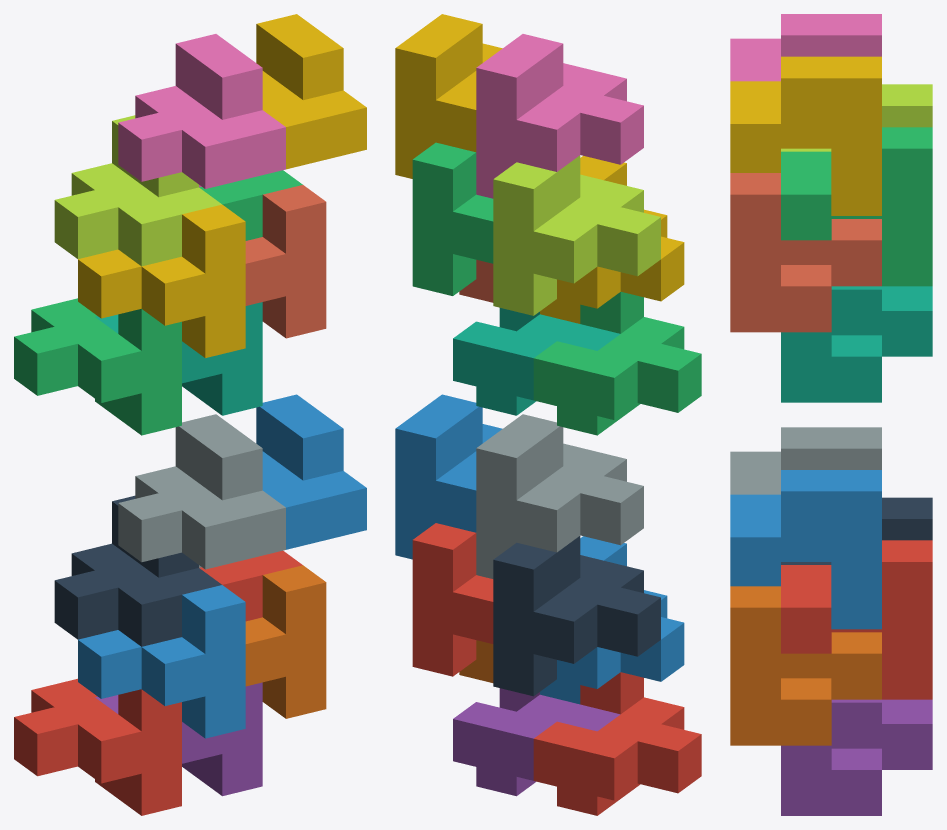
Rendered from tiling.obj.
3 renders of one model, left to right at view 1: azimuth 30°, elevation 25°; view 2: azimuth 150°, elevation 25°; view 3: azimuth 270°, elevation 25°, orthographic. The views are drawn at different scales.
Parts seen in each view (by area): view 1: copy_2_domain_4, copy_2_domain_2, copy_1_domain_3, copy_1_domain_1, copy_1_domain_4, copy_1_domain_2, copy_2_domain_8, copy_2_domain_6, copy_2_domain_1, copy_2_domain_3, copy_1_domain_6, copy_1_domain_8 (+4 smaller); view 2: copy_2_domain_3, copy_2_domain_1, copy_2_domain_4, copy_2_domain_2, copy_1_domain_3, copy_1_domain_1, copy_2_domain_8, copy_2_domain_6, copy_2_domain_5, copy_2_domain_7, copy_1_domain_7, copy_1_domain_5 (+4 smaller); view 3: copy_2_domain_6, copy_2_domain_8, copy_1_domain_6, copy_1_domain_8, copy_1_domain_7, copy_1_domain_5, copy_2_domain_5, copy_2_domain_7, copy_2_domain_2, copy_2_domain_4, copy_2_domain_3, copy_2_domain_1.
Part boxes in pixels (left/top/right/bottom): copy_2_domain_4: left=118, top=34, right=285, bottom=188; copy_2_domain_2: left=118, top=414, right=285, bottom=569; copy_1_domain_3: left=14, top=298, right=181, bottom=435; copy_1_domain_1: left=14, top=678, right=181, bottom=815; copy_1_domain_4: left=78, top=204, right=245, bottom=357; copy_1_domain_2: left=78, top=585, right=245, bottom=738; copy_2_domain_8: left=256, top=14, right=366, bottom=169; copy_2_domain_6: left=256, top=394, right=366, bottom=549; copy_2_domain_1: left=54, top=495, right=221, bottom=646; copy_2_domain_3: left=54, top=115, right=221, bottom=266; copy_1_domain_6: left=245, top=565, right=326, bottom=718; copy_1_domain_8: left=245, top=185, right=326, bottom=338; copy_2_domain_3: left=493, top=155, right=660, bottom=315; copy_2_domain_1: left=493, top=536, right=660, bottom=696; copy_2_domain_4: left=476, top=34, right=643, bottom=198; copy_2_domain_2: left=476, top=414, right=643, bottom=578; copy_1_domain_3: left=533, top=292, right=701, bottom=435; copy_1_domain_1: left=533, top=672, right=701, bottom=815; copy_2_domain_8: left=395, top=14, right=502, bottom=178; copy_2_domain_6: left=395, top=394, right=502, bottom=559; copy_2_domain_5: left=412, top=523, right=493, bottom=676; copy_2_domain_7: left=412, top=142, right=493, bottom=295; copy_1_domain_7: left=453, top=308, right=619, bottom=415; copy_1_domain_5: left=453, top=688, right=620, bottom=796; copy_2_domain_6: left=730, top=470, right=881, bottom=629; copy_2_domain_8: left=730, top=56, right=881, bottom=215; copy_1_domain_6: left=730, top=586, right=881, bottom=745; copy_1_domain_8: left=730, top=173, right=881, bottom=332; copy_1_domain_7: left=781, top=286, right=932, bottom=402; copy_1_domain_5: left=781, top=699, right=932, bottom=815; copy_2_domain_5: left=781, top=540, right=932, bottom=699; copy_2_domain_7: left=781, top=127, right=932, bottom=286; copy_2_domain_2: left=730, top=427, right=881, bottom=494; copy_2_domain_4: left=730, top=14, right=881, bottom=81; copy_2_domain_3: left=781, top=84, right=932, bottom=151; copy_2_domain_1: left=781, top=497, right=932, bottom=564.
Size of the model in its own units: 7 by 17 by 4.
